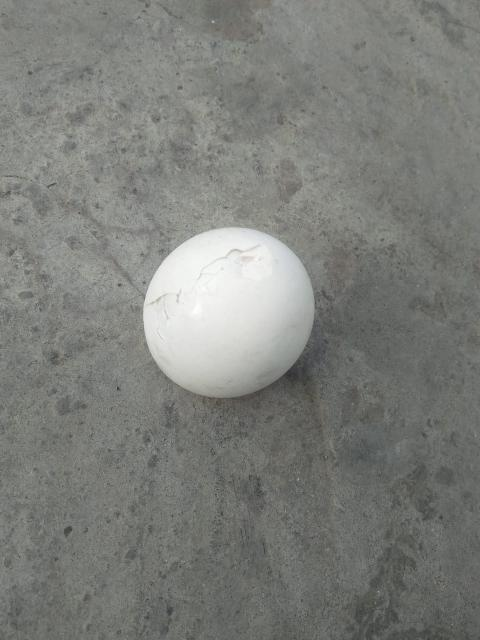Roto: (142, 226, 316, 399)
